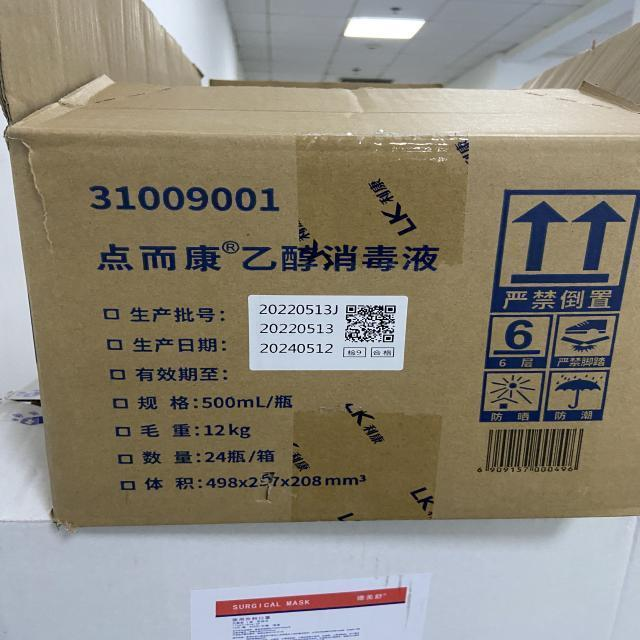box: (1, 0, 640, 523), (0, 374, 640, 640)
